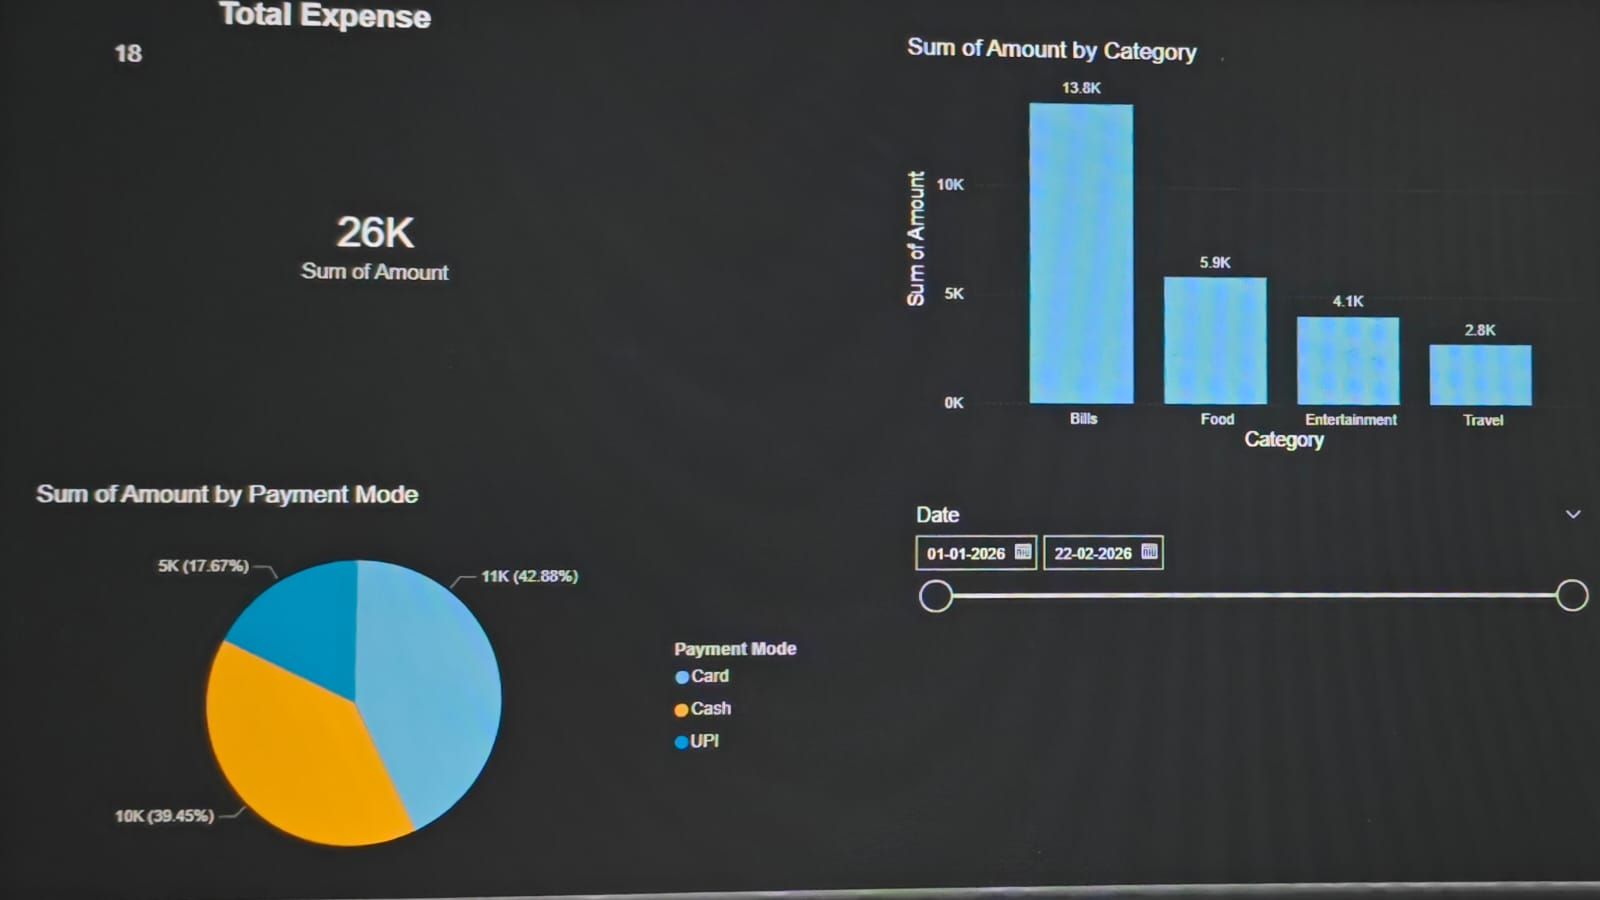

The page's visual inventory and layout, read from the dashboard file:
{"tool":"powerbi","page":{"name":"Page 1","canvas":[1280,720],"ordinal":0},"visuals":[{"type":"columnChart","fields":{"Y":["Sum(Sheet1.Amount)"],"Category":["Sheet1.Category"]},"box":[716.3,49.4,564,340.3],"z":0},{"type":"pieChart","fields":{"Category":["Sheet1.Payment Mode"],"Y":["Sum(Sheet1.Amount)"]},"box":[39.7,401.3,600,319.2],"z":1000},{"type":"card","title":"18","fields":{"Values":["Sum(Sheet1.Amount)"]},"box":[89.2,60.4,408.9,289.5],"z":3000},{"type":"textbox","box":[135.8,19.2,233.3,41.2],"z":3001},{"type":"slicer","fields":{"Values":["Sheet1.Date"]},"box":[716.3,413,564,307.4],"z":3002}]}

Visuals, with their boxes in screenshot pixels (x1, y1, x2, y2), scaled from the page's 1280x720 canvas onto the 1600x900 screenshot:
columnChart - Sum(Sheet1.Amount) x Sheet1.Category: l=895, t=62, r=1599, b=487
pieChart - Sheet1.Payment Mode x Sum(Sheet1.Amount): l=50, t=502, r=800, b=899
"18" card: l=112, t=76, r=623, b=437
textbox: l=170, t=24, r=461, b=76
slicer - Sheet1.Date: l=895, t=516, r=1599, b=899
